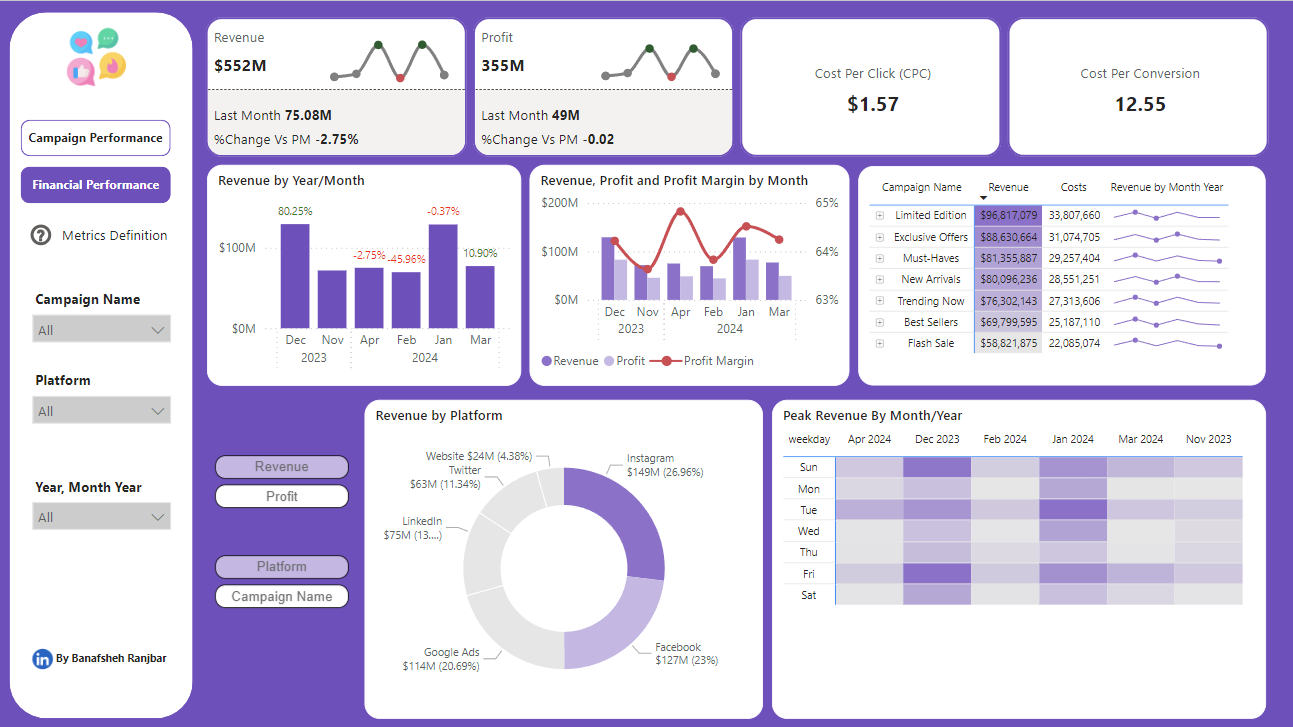

Layout of this report page (visuals, bound fields, positions):
{"tool":"powerbi","page":{"name":"Financial Performance","canvas":[1280,720],"ordinal":1},"visuals":[{"type":"shape","box":[12.1,10.9,181,697.3],"z":0},{"type":"actionButton","title":"Metrics Definition","box":[23.3,210.9,41.7,40.5],"z":0,"group":"g1"},{"type":"textbox","box":[58.9,217,122.6,29.4],"z":1000,"group":"g1"},{"type":"image","box":[23.7,625.7,43.4,47.3],"z":1000},{"type":"image","box":[64.4,19.7,68.4,71],"z":2000},{"type":"textbox","box":[52.6,632.8,119.6,46.7],"z":3000},{"type":"pageNavigator","box":[23.7,117,148.5,82.8],"z":4000},{"type":"slicer","fields":{"Values":["Fact-CP.Campaign Name"]},"box":[24.1,279.9,156.8,80.8],"z":5000},{"type":"slicer","fields":{"Values":["Fact-CP.Platform"]},"box":[24.1,360.7,156.8,79.6],"z":6000},{"type":"slicer","fields":{"Values":["DimDate.Year","DimDate.Month Year"]},"box":[24.1,465.7,156.8,79.6],"z":7000},{"type":"cardVisual","fields":{"Data":["Measure-List.Revenue","Measure-List.Profit","Measure-List.CPC","Measure-List.Cost Per Conversion"]},"box":[201.1,10.5,1060.8,148.5],"z":8000},{"type":"lineChart","fields":{"Category":["DimDate.Month Name"],"Y":["Measure-List.Profit"]},"box":[587.7,21,135.8,64.2],"z":9000},{"type":"lineChart","fields":{"Category":["DimDate.Month Name"],"Y":["Measure-List.Revenue"]},"box":[319.8,23.5,135.8,64.2],"z":10000},{"type":"clusteredColumnChart","title":"Revenue by Year/Month","fields":{"Category":["DimDate.Year","DimDate.Month Name"],"Y":["Measure-List.Revenue"]},"box":[207.2,161.9,310.3,218.3],"z":11000},{"type":"lineClusteredColumnComboChart","title":"Revenue, Profit and Profit Margin by Month","fields":{"Category":["DimDate.Year","DimDate.Month Name"],"Y":["Measure-List.Revenue","Measure-List.Profit"],"Y2":["Measure-List.Profit Margin"]},"box":[526.1,161.9,316.4,218.3],"z":12000},{"type":"donutChart","fields":{"Category":["Fact-CP.Platform"],"Y":["Measure-List.Revenue"]},"box":[363,393.6,393.6,315.2],"z":13000},{"type":"ChicletSlicer1448559807354","fields":{"Category":["Platform-Campaign.Platform-Campaign"]},"box":[207.2,539.6,148.4,85.8],"z":14000},{"type":"ChicletSlicer1448559807354","fields":{"Category":["Revenue-Profit.Revenue-Profit"]},"box":[207.2,440.2,148.4,80.9],"z":15000},{"type":"pivotTable","title":"Peak Revenue By Month/Year","fields":{"Values":["Measure-List.Revenue"],"Rows":["DimDate.weekday"],"Columns":["DimDate.Month Year"]},"box":[765.2,393.6,488.1,315.2],"z":16000},{"type":"pivotTable","fields":{"Rows":["Fact-CP.Campaign Name","Fact-CP.Platform"],"Values":["Measure-List.Revenue","Measure-List.Costs","SparklineData(Measure-List.Revenue_[DimDate.Month Year])"]},"box":[851,163.1,402.2,217.1],"z":17000},{"type":"group","id":"g1","title":"Group 1","box":[23.3,210.9,158.2,40.5],"z":18000}]}

Visuals, with their boxes in screenshot pixels (x1, y1, x2, y2), scaled from the page's 1280x720 canvas onto the 1293x727 screenshot:
shape: [left=12, top=11, right=195, bottom=715]
"Metrics Definition" actionButton: [left=24, top=213, right=66, bottom=254]
textbox: [left=59, top=219, right=183, bottom=249]
image: [left=24, top=632, right=68, bottom=680]
image: [left=65, top=20, right=134, bottom=92]
textbox: [left=53, top=639, right=174, bottom=686]
pageNavigator: [left=24, top=118, right=174, bottom=202]
slicer - Fact-CP.Campaign Name: [left=24, top=283, right=183, bottom=364]
slicer - Fact-CP.Platform: [left=24, top=364, right=183, bottom=445]
slicer - DimDate.Year x DimDate.Month Year: [left=24, top=470, right=183, bottom=551]
cardVisual - Measure-List.Revenue x Measure-List.Profit: [left=203, top=11, right=1275, bottom=161]
lineChart - DimDate.Month Name x Measure-List.Profit: [left=594, top=21, right=731, bottom=86]
lineChart - DimDate.Month Name x Measure-List.Revenue: [left=323, top=24, right=460, bottom=89]
"Revenue by Year/Month" clusteredColumnChart: [left=209, top=163, right=523, bottom=384]
"Revenue, Profit and Profit Margin by Month" lineClusteredColumnComboChart: [left=531, top=163, right=851, bottom=384]
donutChart - Fact-CP.Platform x Measure-List.Revenue: [left=367, top=397, right=764, bottom=716]
ChicletSlicer1448559807354 - Platform-Campaign.Platform-Campaign: [left=209, top=545, right=359, bottom=631]
ChicletSlicer1448559807354 - Revenue-Profit.Revenue-Profit: [left=209, top=444, right=359, bottom=526]
"Peak Revenue By Month/Year" pivotTable: [left=773, top=397, right=1266, bottom=716]
pivotTable - Fact-CP.Campaign Name x Fact-CP.Platform: [left=860, top=165, right=1266, bottom=384]
"Group 1" group: [left=24, top=213, right=183, bottom=254]
